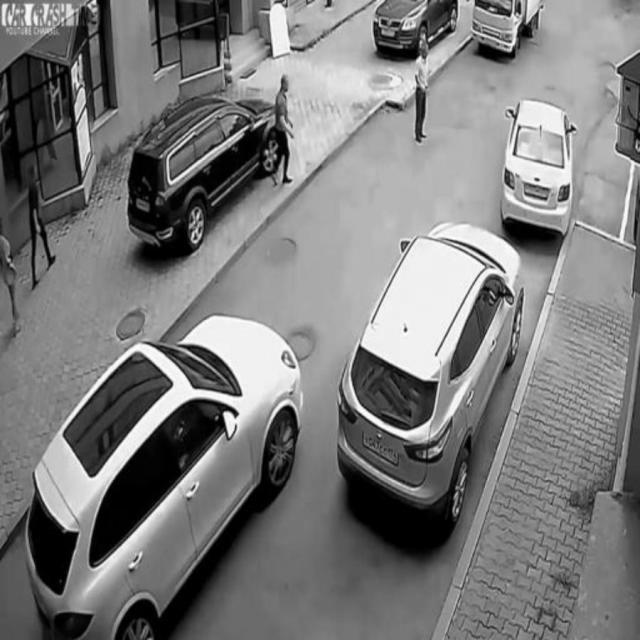person: (22, 161, 60, 289), (269, 67, 297, 191), (0, 223, 20, 344), (411, 38, 431, 151)
vehicle: (26, 318, 304, 640), (338, 213, 525, 521), (128, 97, 272, 254), (501, 95, 578, 232), (369, 0, 460, 54), (471, 0, 546, 58)
